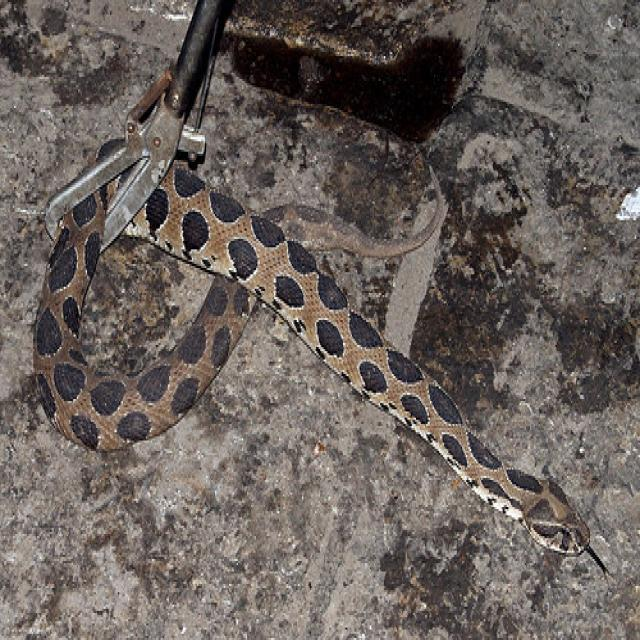Snake: (31, 0, 610, 576)
